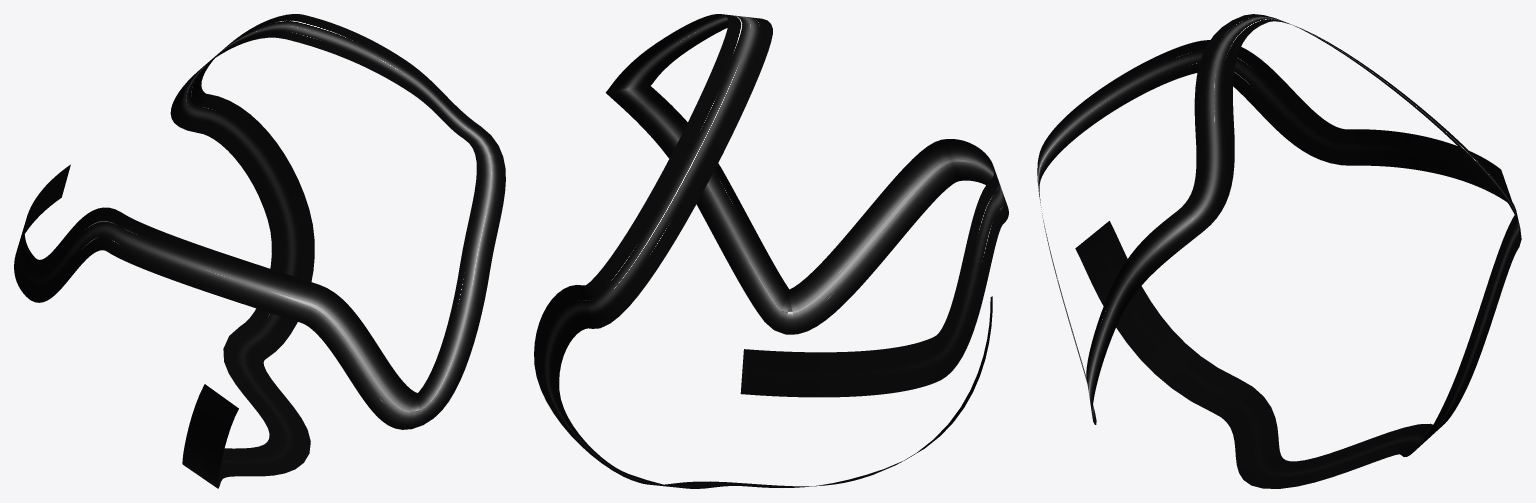
Rendered from Ribbon.fbx.
3 views of the same model, side by side, from view 1: azimuth 30°, elevation 25°; view 2: azimuth 150°, elevation 25°; view 3: azimuth 270°, elevation 25° (orthographic). The views are drawn at different scales.
Parts seen in each view (by area): view 1: BézierCurve; view 2: BézierCurve; view 3: BézierCurve.
Part boxes in pixels (x1=…): BézierCurve: x1=14, y1=14, x2=505, y2=488; BézierCurve: x1=534, y1=14, x2=1008, y2=488; BézierCurve: x1=1037, y1=14, x2=1521, y2=488.
Bounding box in the file's own units: 190 × 204 × 191.
